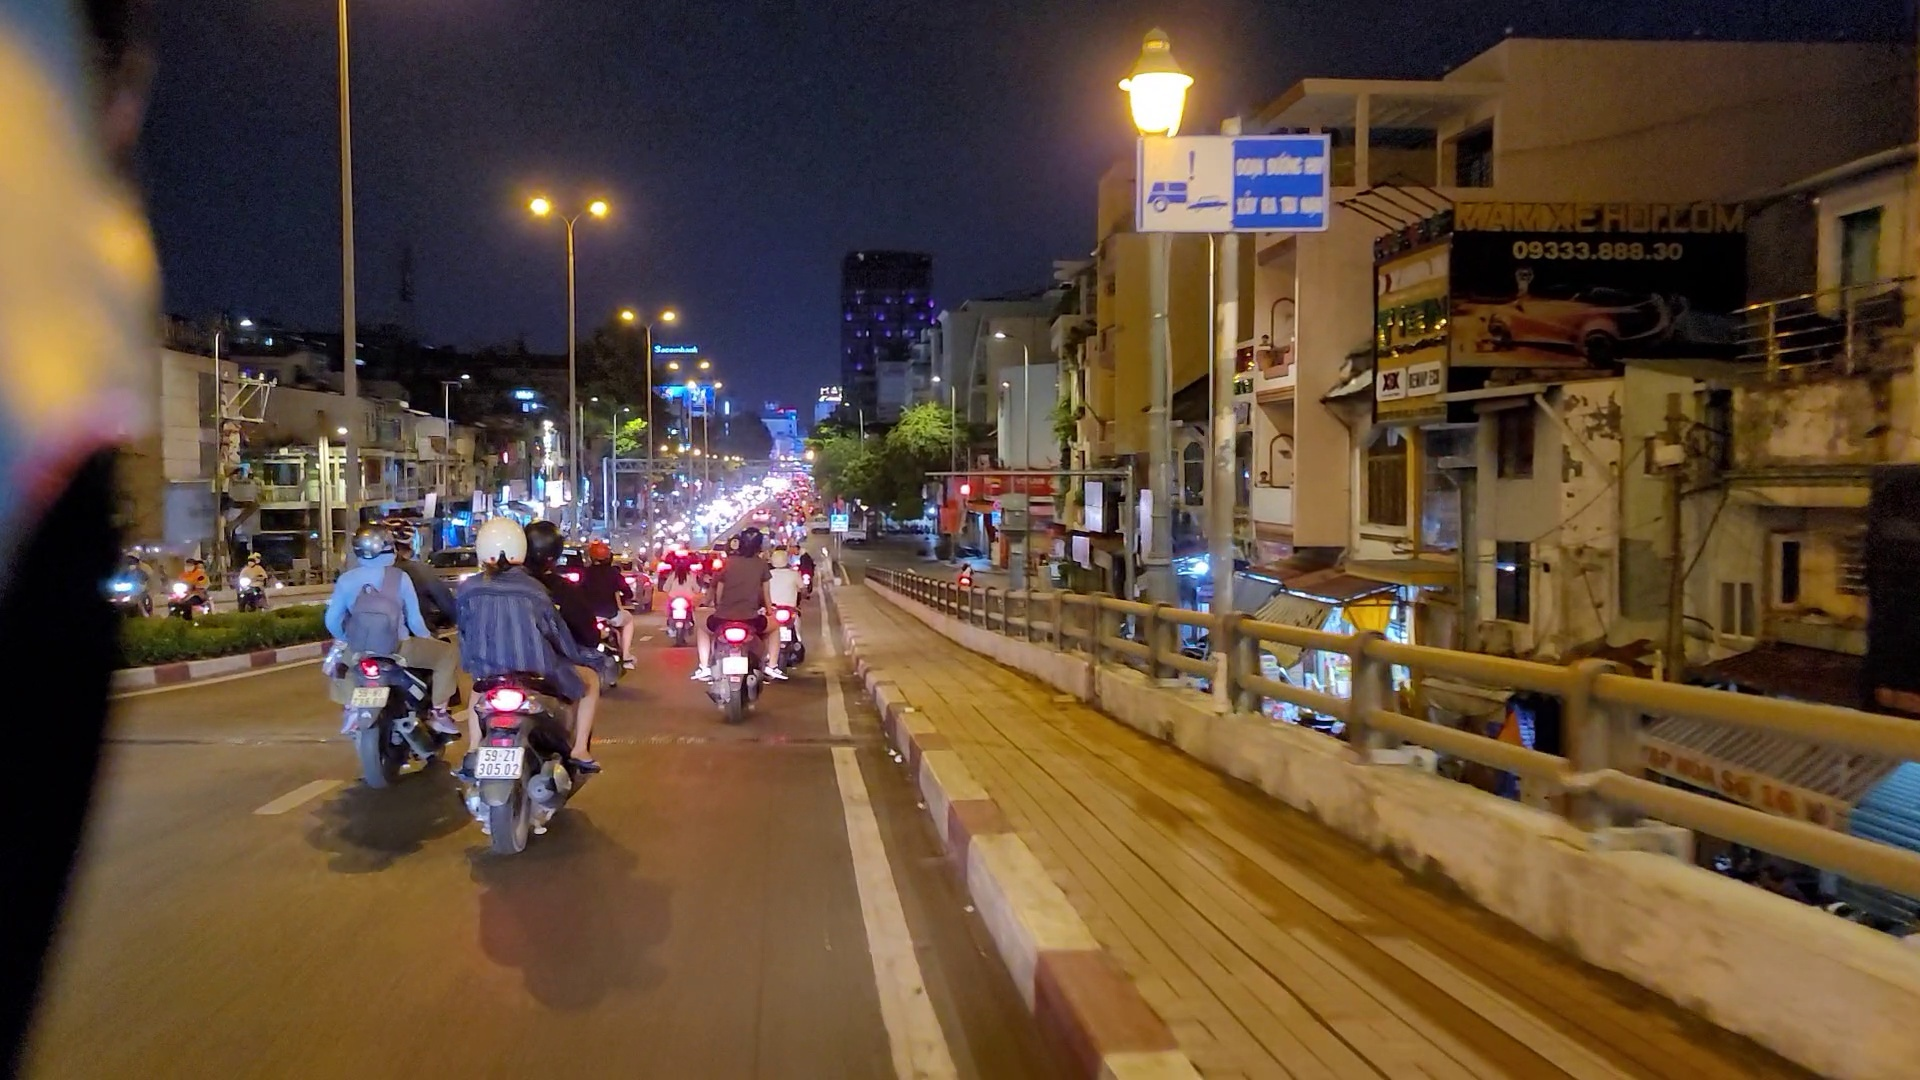Bien khac: (1135, 124, 1331, 231)
